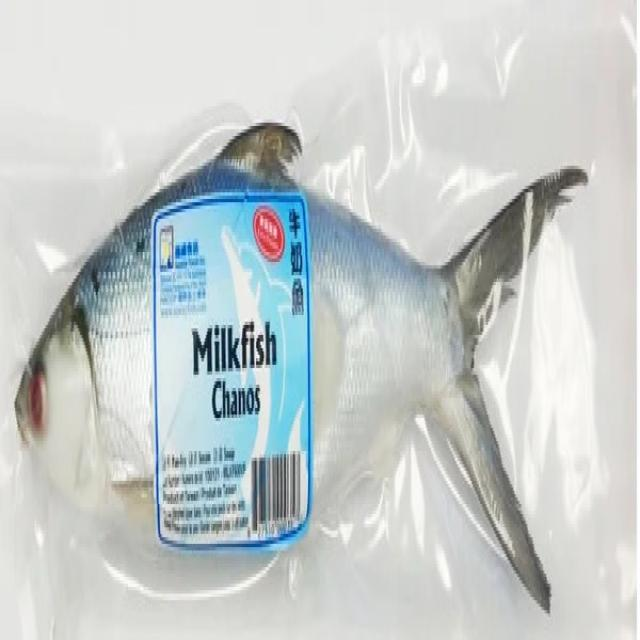Bangus: (7, 59, 596, 604)
